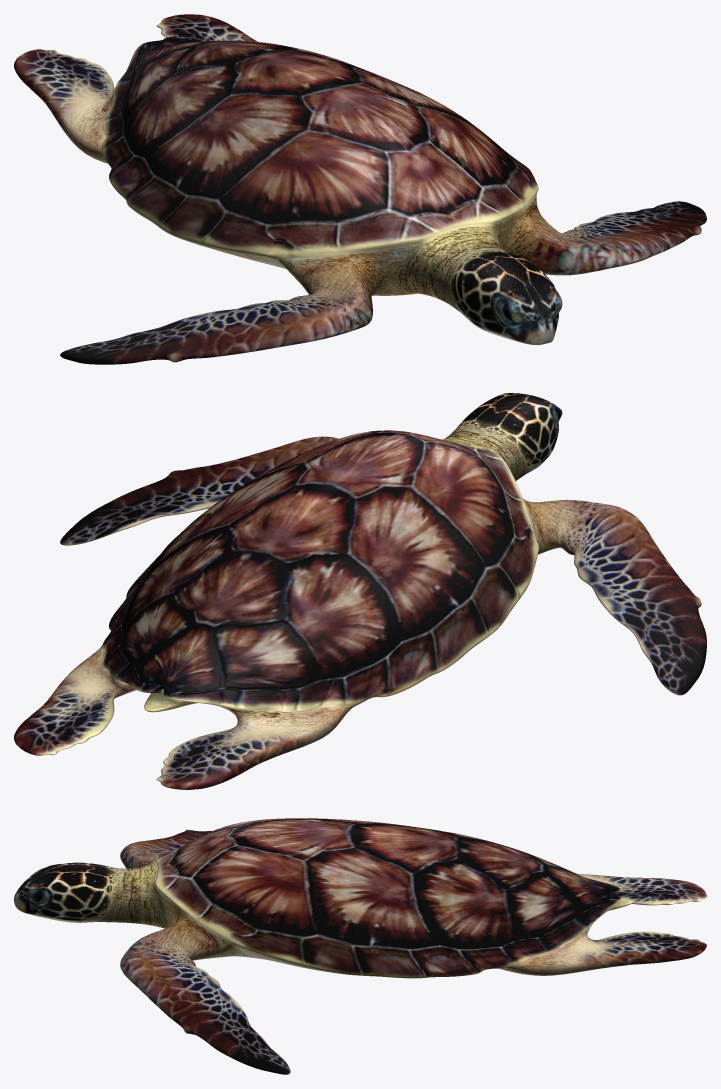
File: 10042_Sea_Turtle_V2_iterations-2.obj
The picture shows the model from 3 angles, top to bottom: view 1: azimuth 30°, elevation 25°; view 2: azimuth 150°, elevation 25°; view 3: azimuth 270°, elevation 25°; orthographic projection. The views are drawn at different scales.
Parts seen in each view (by area): view 1: 10042_Sea_Turtle_V2_iterations-2; view 2: 10042_Sea_Turtle_V2_iterations-2; view 3: 10042_Sea_Turtle_V2_iterations-2.
Part boxes in pixels (x1,y1,x2,y2): 10042_Sea_Turtle_V2_iterations-2: (14,14,706,364); 10042_Sea_Turtle_V2_iterations-2: (14,393,706,789); 10042_Sea_Turtle_V2_iterations-2: (14,818,706,1074).
Bounding box in the file's own units: 2.24 × 0.567 × 2.78.
Materials: 1 (1 with a texture image).
